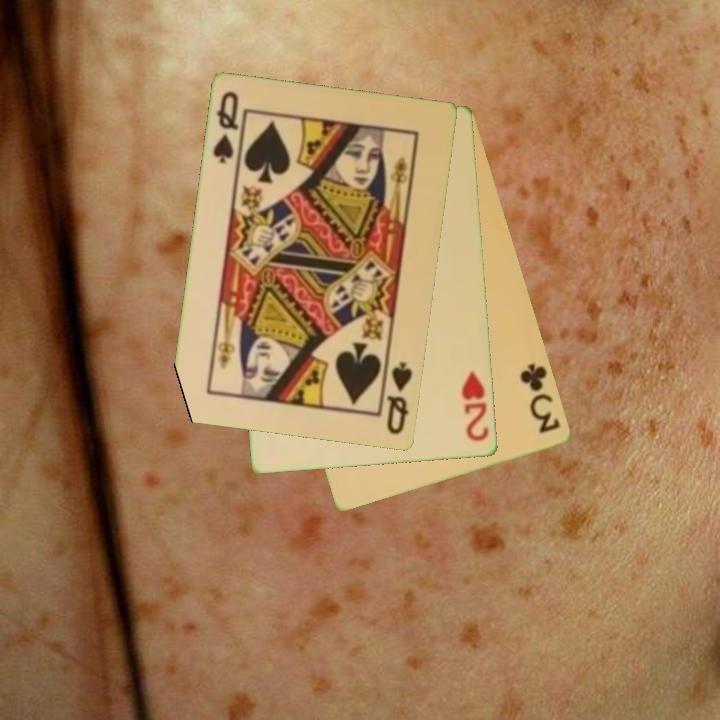2h: (458, 368, 492, 445)
3c: (517, 360, 564, 437)
Qs: (210, 88, 247, 169), (383, 358, 416, 438)
